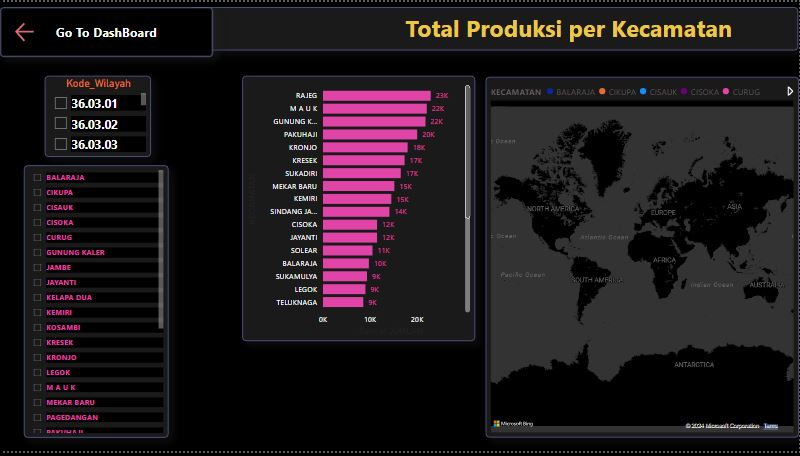

Layout of this report page (visuals, bound fields, positions):
{"tool":"powerbi","page":{"name":"Total Produksi per Kecamatan","canvas":[1280,720],"ordinal":2},"visuals":[{"type":"textbox","box":[305.6,8.7,974.4,69.3],"z":0},{"type":"actionButton","box":[0,8.4,341.4,80.1],"z":1000},{"type":"slicer","title":"State_name","fields":{"Values":["Produksi Sektor Pertanian Tahun 2023_0 (2).KECAMATAN"]},"box":[38.3,261.7,231.7,436.7],"z":2000},{"type":"slicer","title":"Kode_Wilayah","fields":{"Values":["Produksi Sektor Pertanian Tahun 2023_0 (2).KODE_WILAYAH"]},"box":[71.7,118.3,170,130],"z":3000},{"type":"clusteredBarChart","title":"Total Produksi per Kecamatan","fields":{"Y":["Sum(Produksi Sektor Pertanian Tahun 2023_0 (2).JUMLAH)"],"Category":["Produksi Sektor Pertanian Tahun 2023_0 (2).KECAMATAN"]},"box":[388.3,118.3,373.3,425],"z":4000},{"type":"map","title":"Total Produksi per Kecamatan","fields":{"Series":["Produksi Sektor Pertanian Tahun 2023_0 (2).KECAMATAN"],"Size":["Sum(Produksi Sektor Pertanian Tahun 2023_0 (2).JUMLAH)"]},"box":[779,118.1,501.1,578.9],"z":5000}]}

Visuals, with their boxes in screenshot pixels (x1, y1, x2, y2), scaled from the page's 1280x720 canvas onto the 800x456 screenshot:
textbox: {"left": 191, "top": 6, "right": 799, "bottom": 49}
actionButton: {"left": 0, "top": 5, "right": 213, "bottom": 56}
"State_name" slicer: {"left": 24, "top": 166, "right": 169, "bottom": 442}
"Kode_Wilayah" slicer: {"left": 45, "top": 75, "right": 151, "bottom": 157}
"Total Produksi per Kecamatan" clusteredBarChart: {"left": 243, "top": 75, "right": 476, "bottom": 344}
"Total Produksi per Kecamatan" map: {"left": 487, "top": 75, "right": 799, "bottom": 441}
